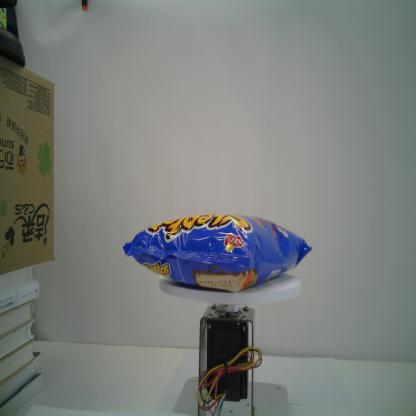Puffed Food: (122, 210, 314, 294)
